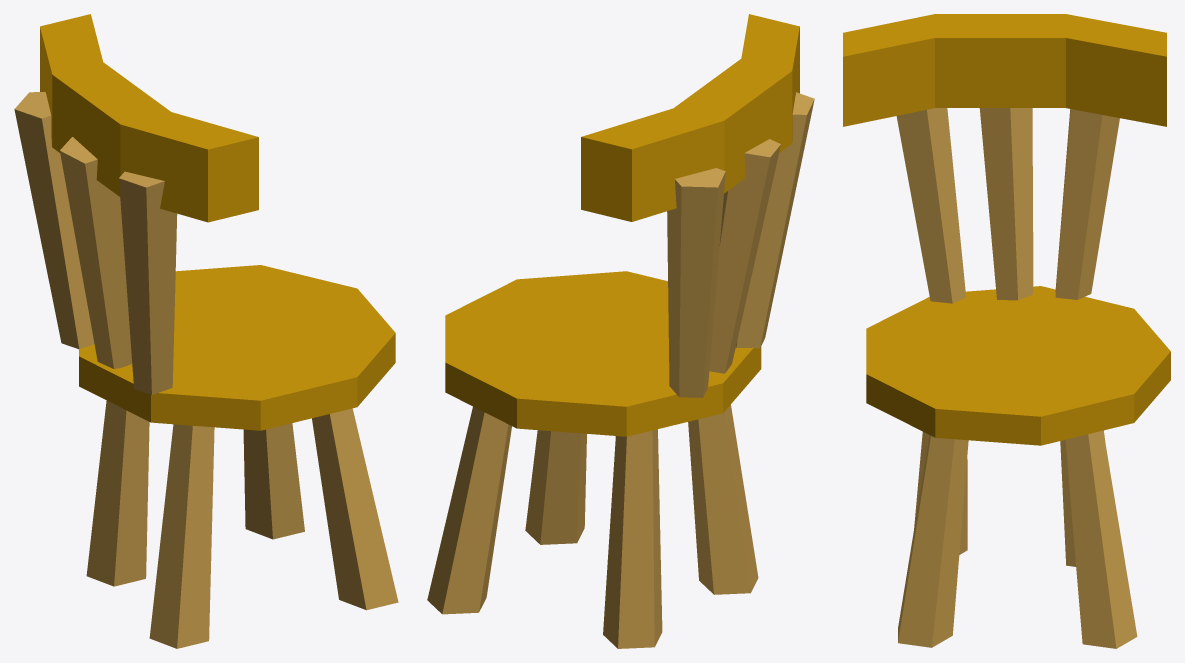
Rendered from Chair.fbx.
The picture shows the model from 3 angles, left to right: view 1: azimuth 30°, elevation 25°; view 2: azimuth 150°, elevation 25°; view 3: azimuth 270°, elevation 25°; orthographic projection. The views are drawn at different scales.
Parts seen in each view (by area): view 1: Cylinder; view 2: Cylinder; view 3: Cylinder.
Part boxes in pixels (x1,y1,x2,y2): Cylinder: (14,14,398,648); Cylinder: (427,14,814,648); Cylinder: (843,14,1170,648).
Size of the model in its own units: 0.6215 by 1 by 0.5882.
